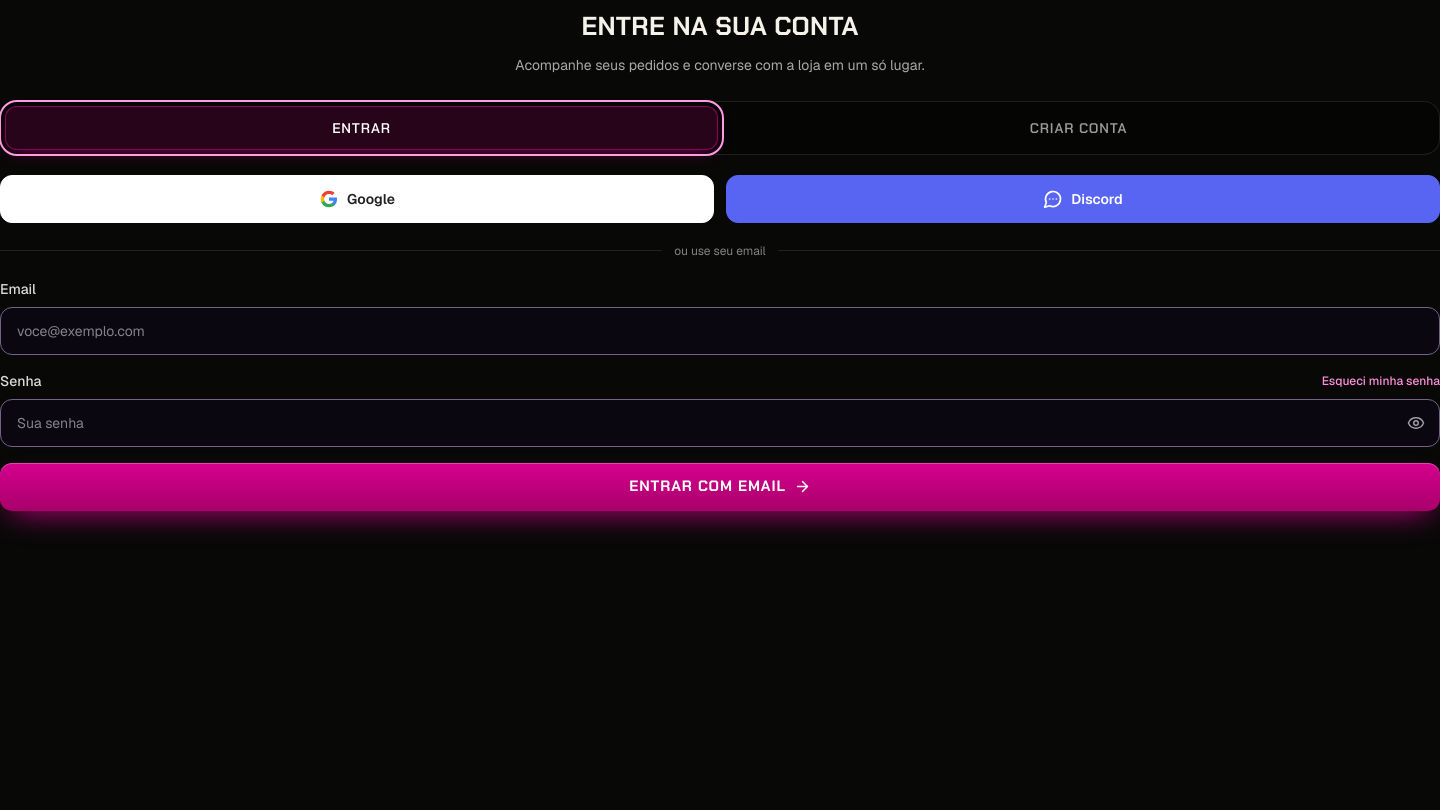
Test case: acesso do cliente por Google, Discord e email › troca de aba pelo teclado e envia nome, senha confirmada e next no cadastro
Press Arrowright
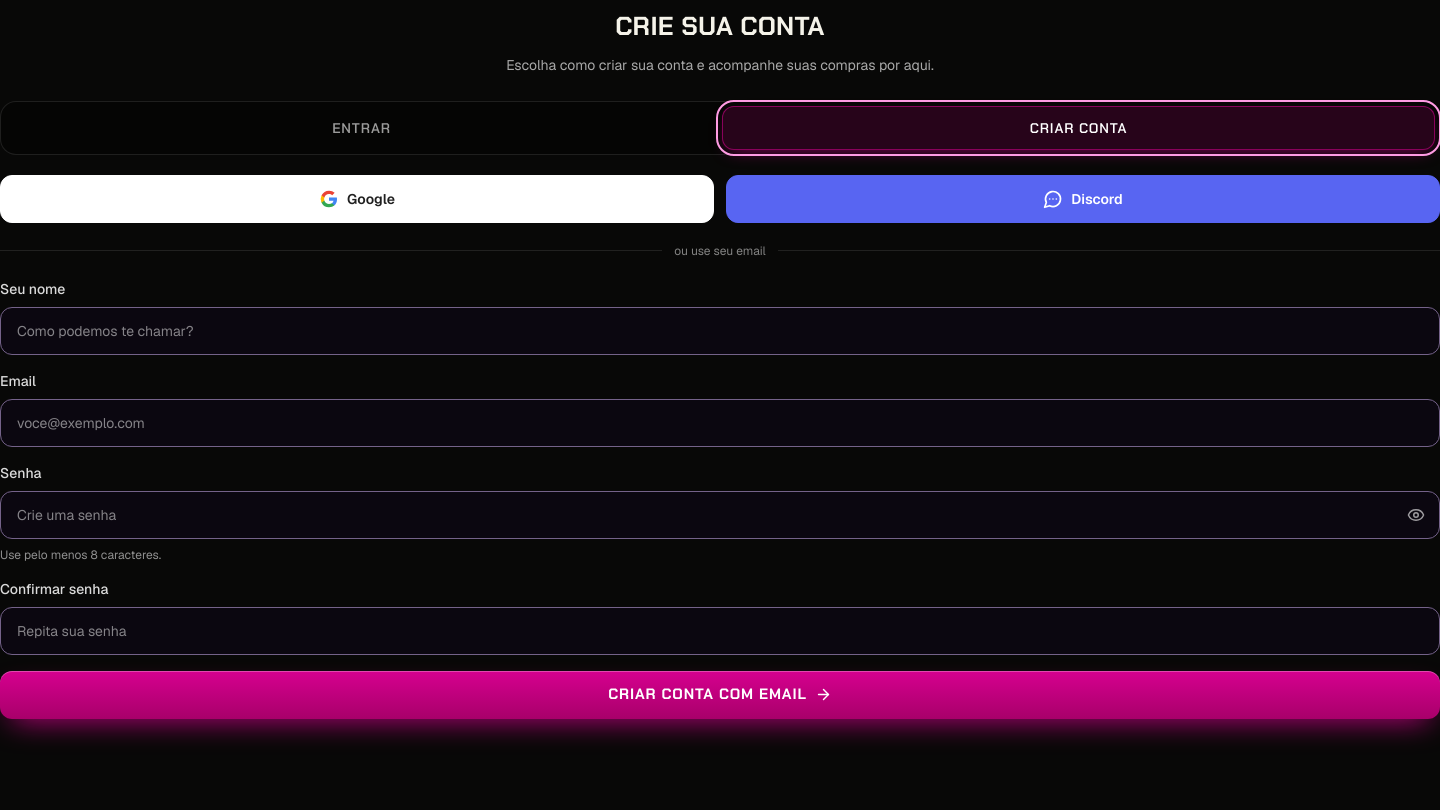
Expected: the heading "Crie sua conta" is shown, [615, 9, 825, 43]
Type "Ana Souza" into the field labelled "Seu nome".
click(720, 331); type("Ana Souza")  # box [0, 307, 1439, 355]
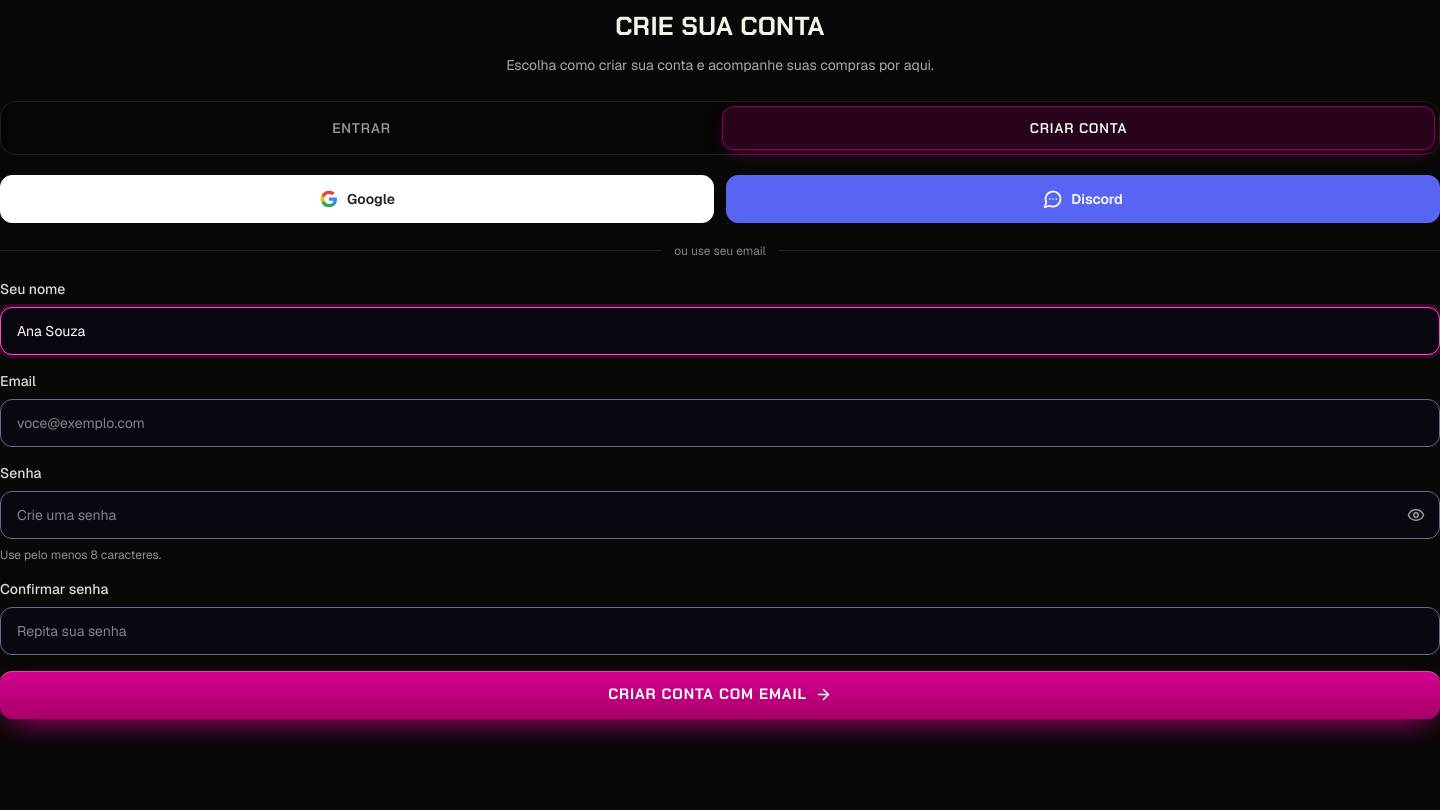
Type "ana@example.com" into the field labelled "Email".
click(720, 423); type("ana@example.com")  # box [0, 399, 1439, 447]
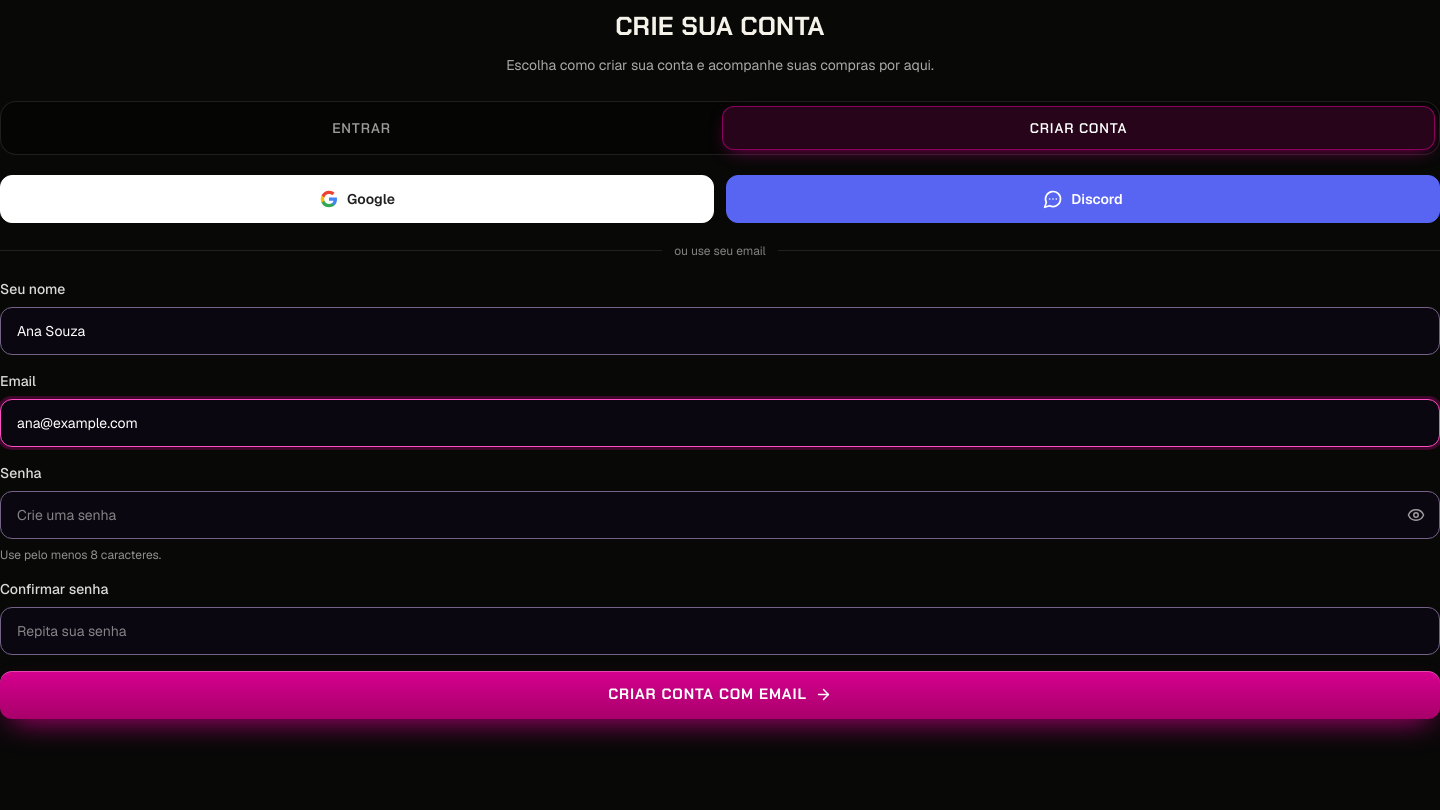
Type "UmaSenha123!" into the password field labelled "Senha".
click(720, 515); type("UmaSenha123!")  # box [0, 491, 1439, 539]
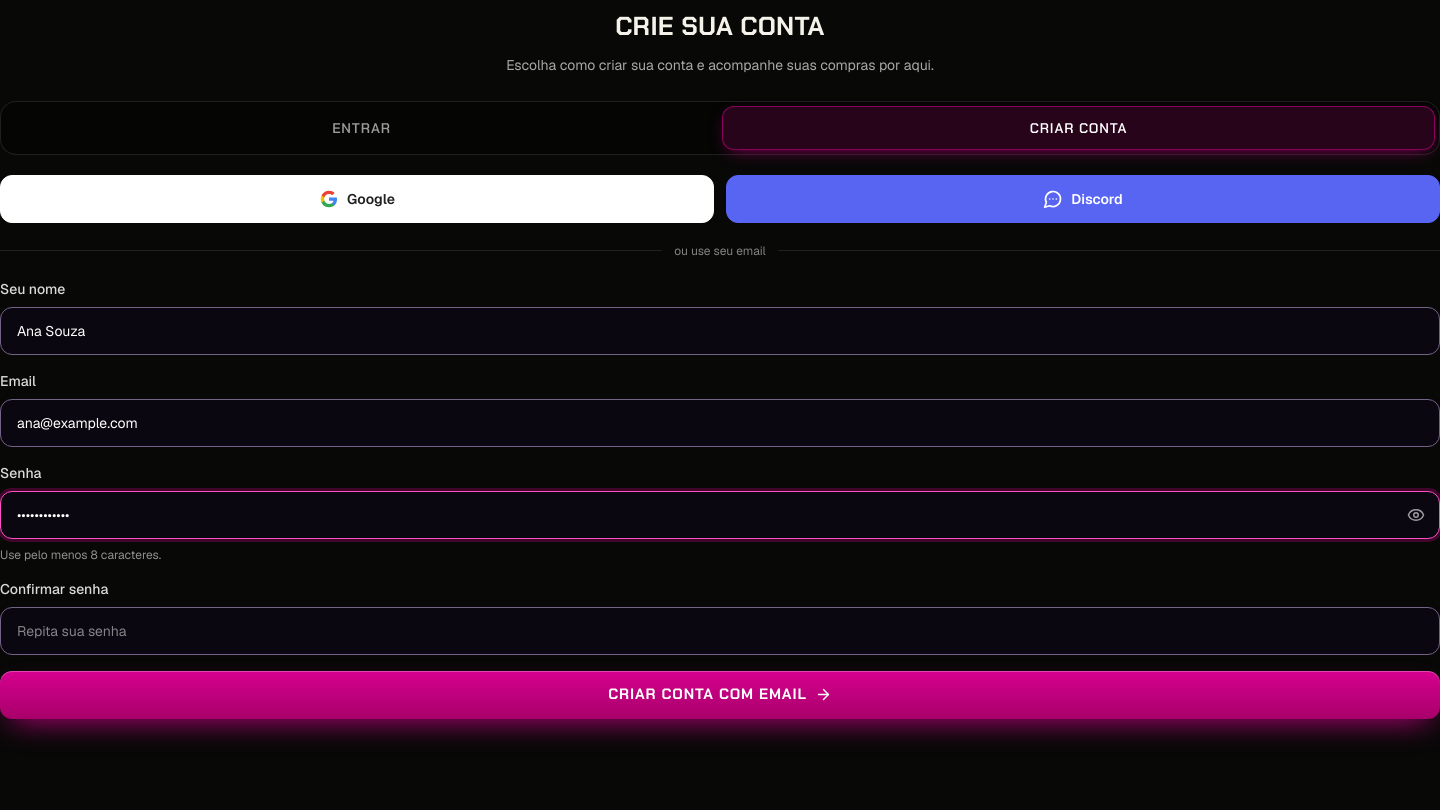
Type "UmaSenha123!" into the password field labelled "Confirmar senha".
click(720, 631); type("UmaSenha123!")  # box [0, 607, 1439, 655]
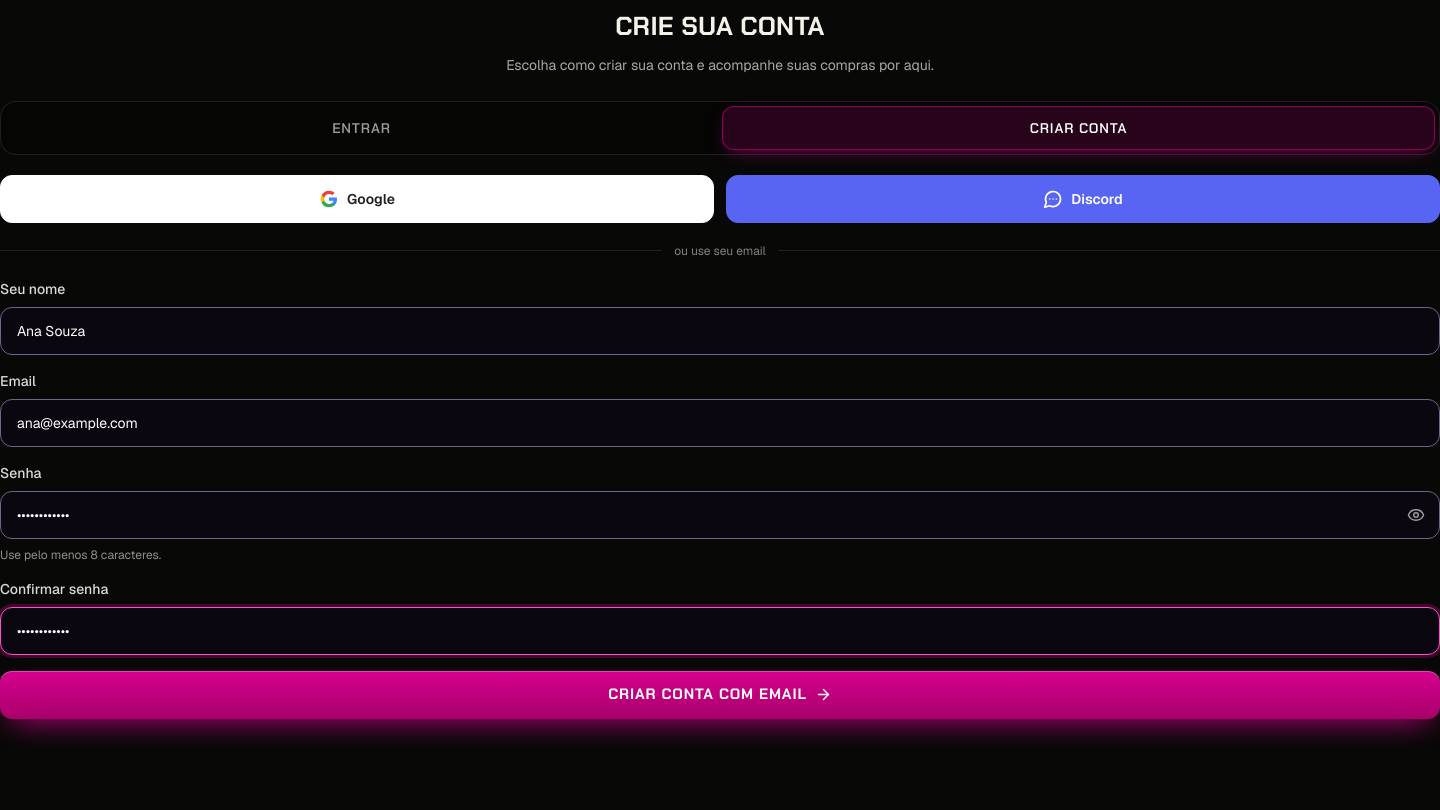
Click the button "Criar conta com email".
click(720, 695)  # box [0, 671, 1439, 719]
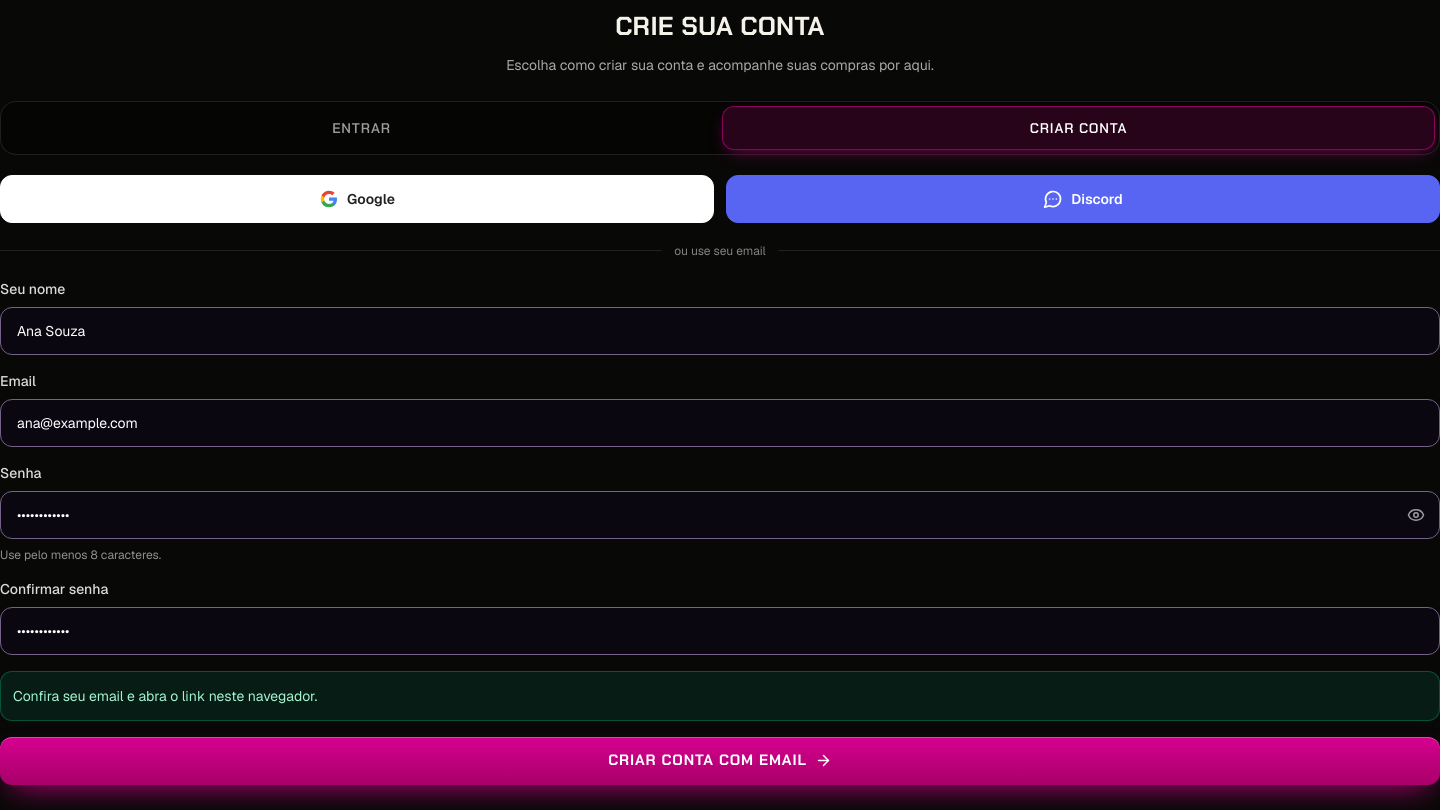
Expected: the message shows "Confira seu email", [13, 687, 317, 705]
